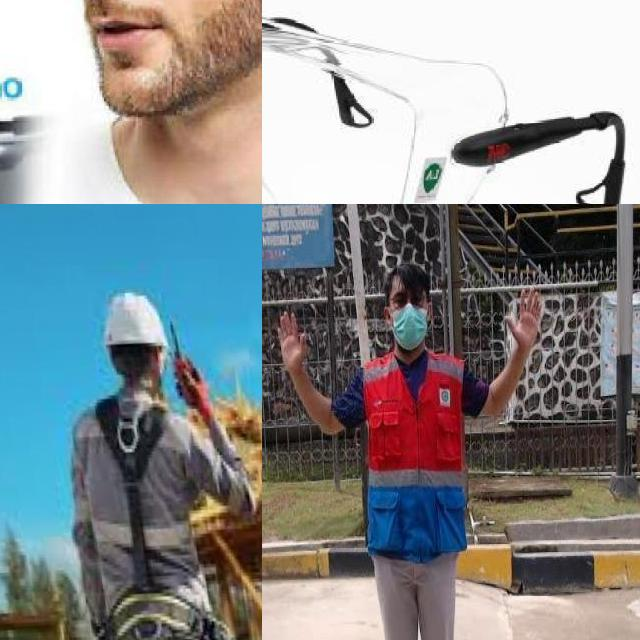Harness: (95, 396, 166, 588)
face_nomask: (41, 0, 195, 72)
person: (262, 253, 585, 640)
vest: (362, 346, 470, 557)
